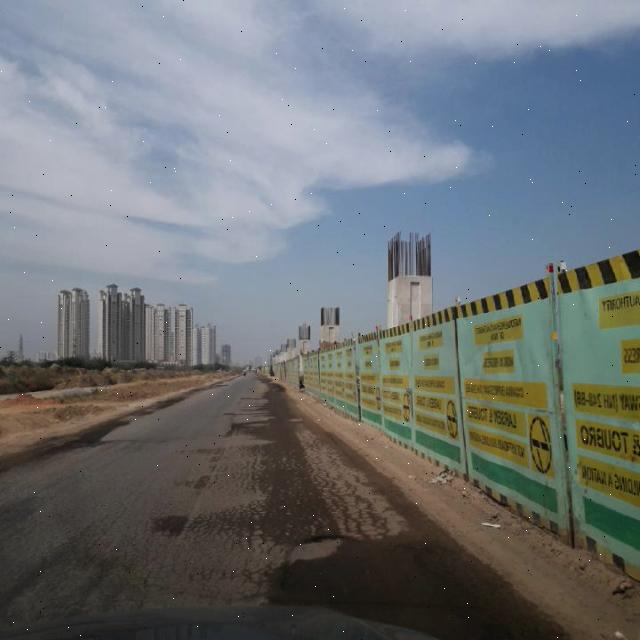D20: (13, 419, 415, 617)
D40: (273, 518, 488, 596)
